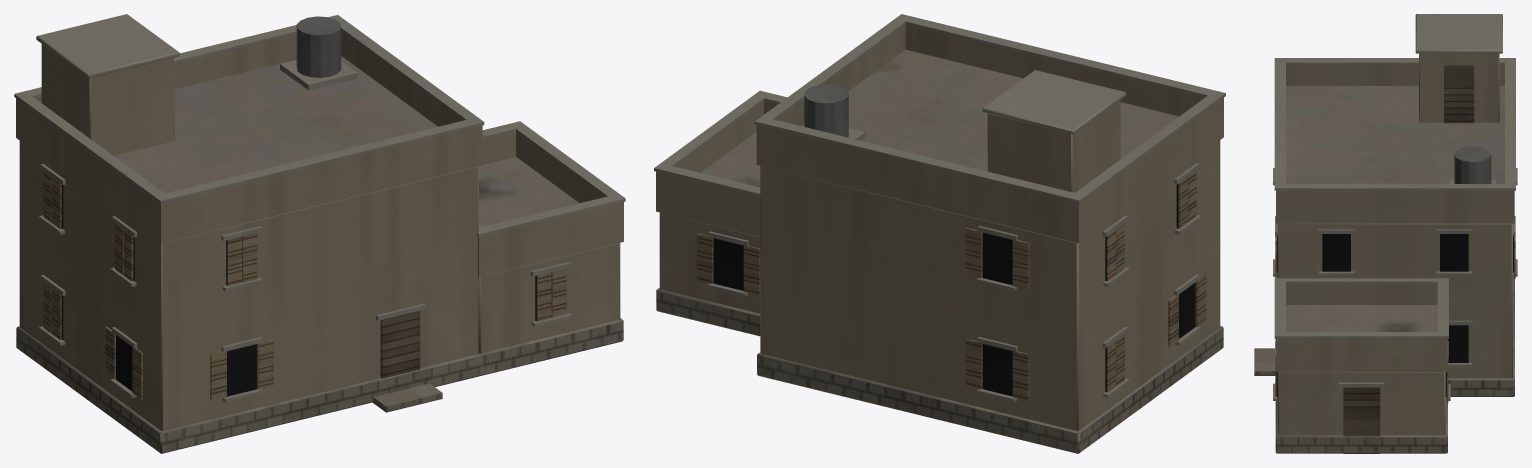
Rendered from a14_house_3.glb.
The picture shows the model from 3 angles, left to right: view 1: azimuth 30°, elevation 25°; view 2: azimuth 150°, elevation 25°; view 3: azimuth 270°, elevation 25°; orthographic projection. The views are drawn at different scales.
Visible parts, largest first — view 1: body; view 2: body; view 3: body.
Boxes of the visible parts, bbox=[...] form: body: bbox=[14, 14, 625, 453]; body: bbox=[654, 14, 1225, 453]; body: bbox=[1254, 14, 1517, 453].
Size of the model in its own units: 1 by 0.6445 by 0.593.
1 material, 1 textured.
